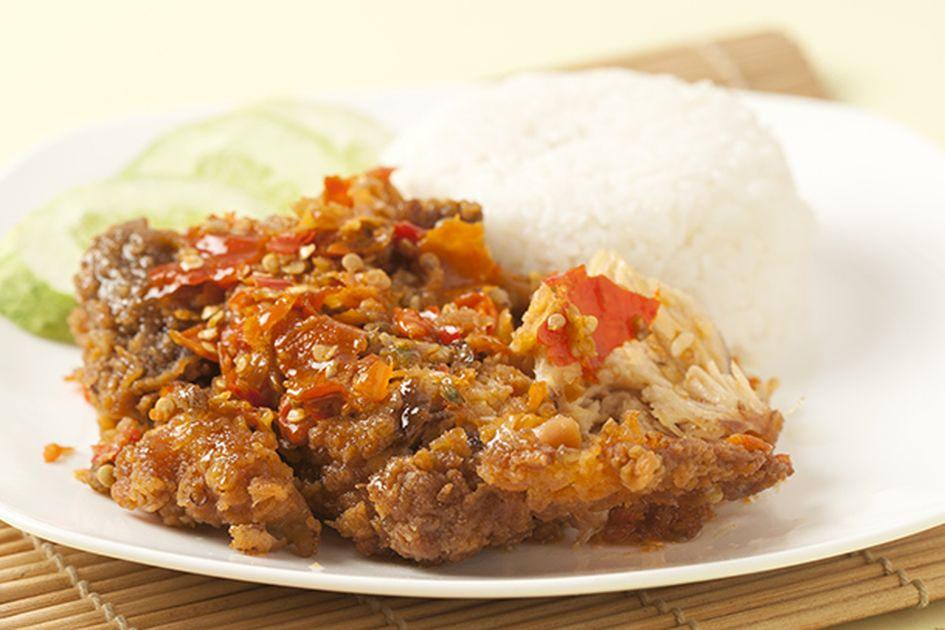ayam_geprek: (83, 185, 794, 584)
